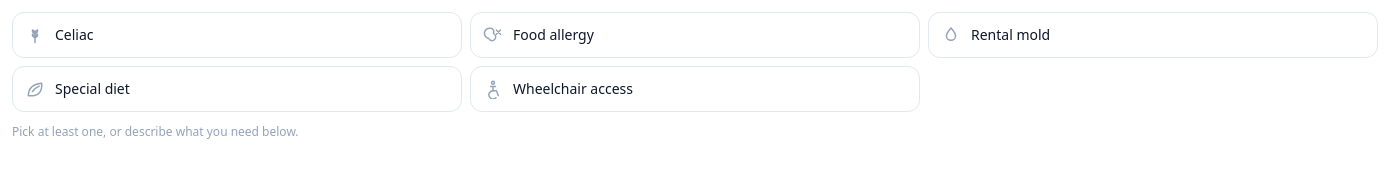
it: <RequirementChips /> › ticking Celiac searches dining only — grocery is an opt-in, not a default
Click the button "Celiac": (74, 35) [12,12,462,58]
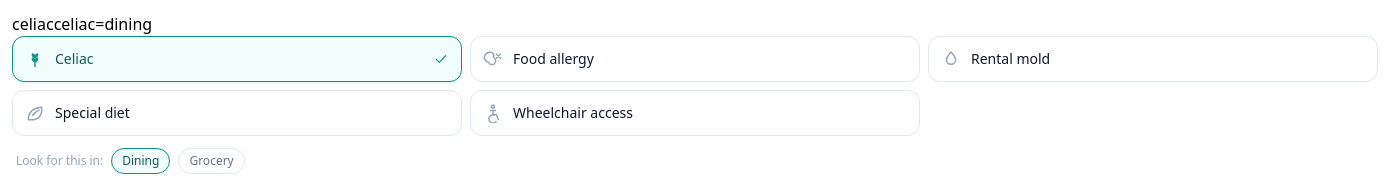
Expected: the text with test id "chip-intents" reads "celiac=dining", [54,13,152,35]
Expected: the text "Look for this in:" is shown, [16,153,103,169]
